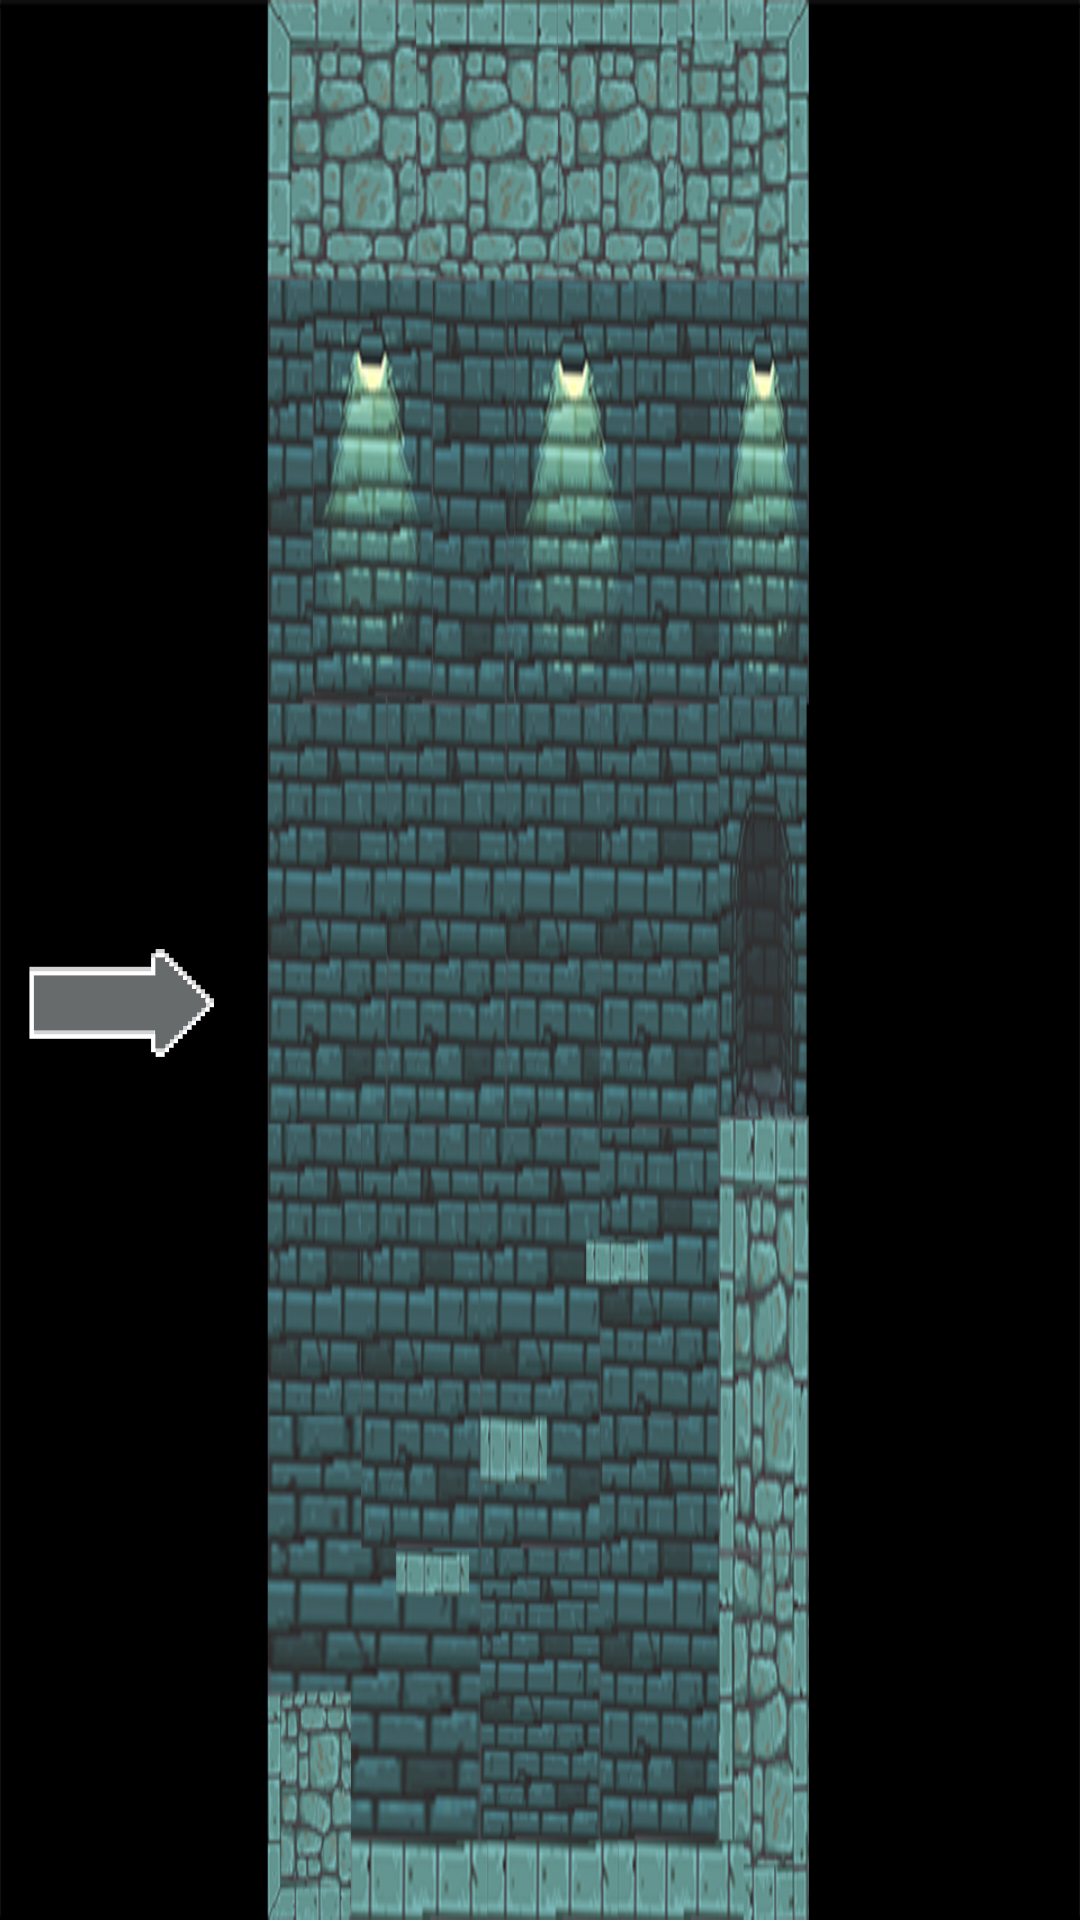

Icon click points for this 1080 × 1920 phone screenshot, format (x,y):
right: (121,1003)
